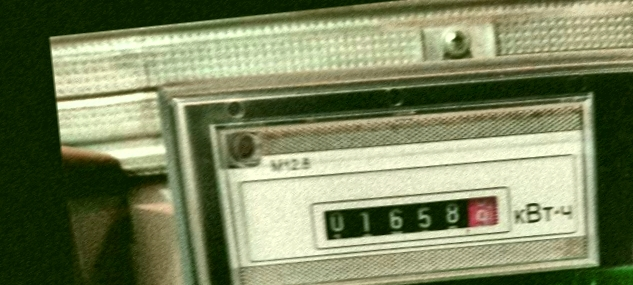0: (326, 212, 345, 235)
1: (356, 210, 373, 236)
5: (414, 206, 433, 231)
6: (385, 208, 406, 233)
8: (442, 203, 461, 227)
9: (472, 208, 490, 231)
screen: (306, 180, 517, 260)
